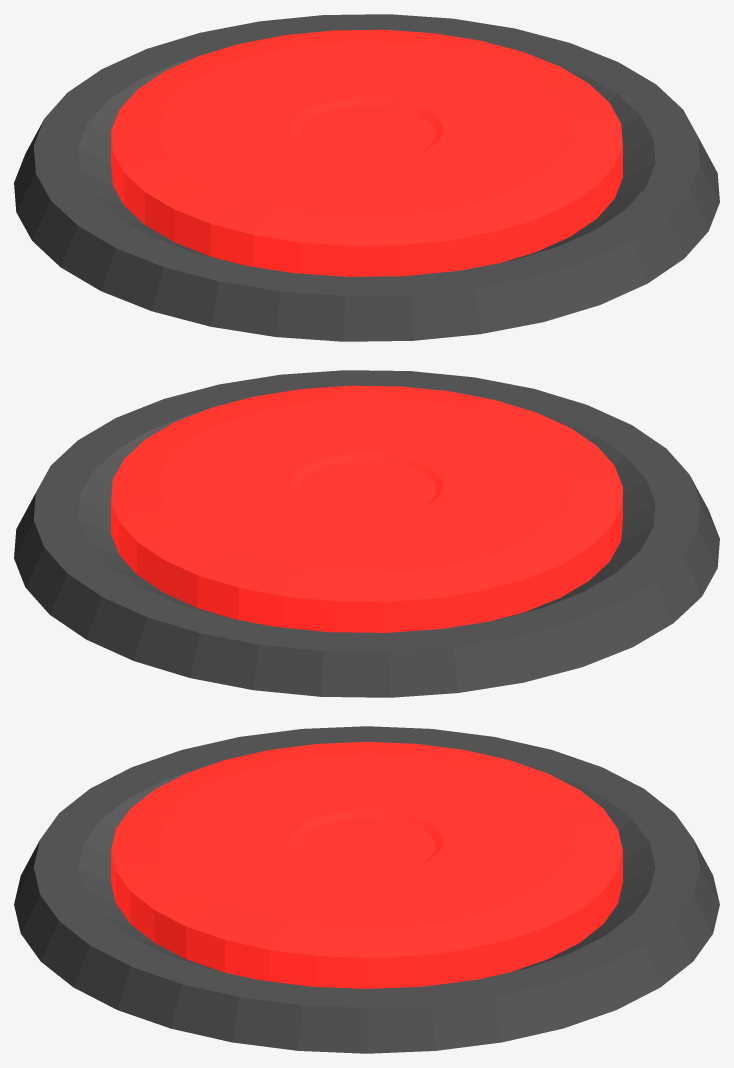
Rendered from Platform.fbx.
3 renders of one model, top to bottom at view 1: azimuth 30°, elevation 25°; view 2: azimuth 150°, elevation 25°; view 3: azimuth 270°, elevation 25°, orthographic.
Visible parts, largest first — view 1: Button, Base; view 2: Button, Base; view 3: Button, Base.
Part boxes in pixels (left/top/right/bottom): Button: left=111, top=29, right=622, bottom=276; Base: left=14, top=14, right=719, bottom=341; Button: left=111, top=385, right=622, bottom=632; Base: left=14, top=370, right=719, bottom=697; Button: left=111, top=741, right=622, bottom=988; Base: left=14, top=726, right=719, bottom=1053.
Size of the model in its own units: 212 by 20.86 by 212.
